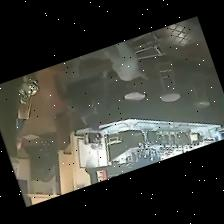person: (105, 41, 146, 83)
